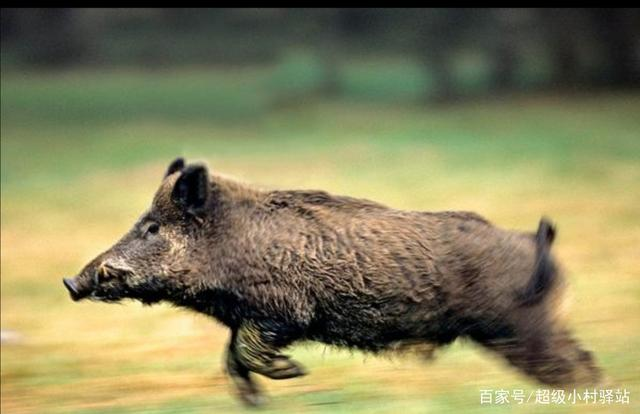boar: (50, 151, 614, 388)
